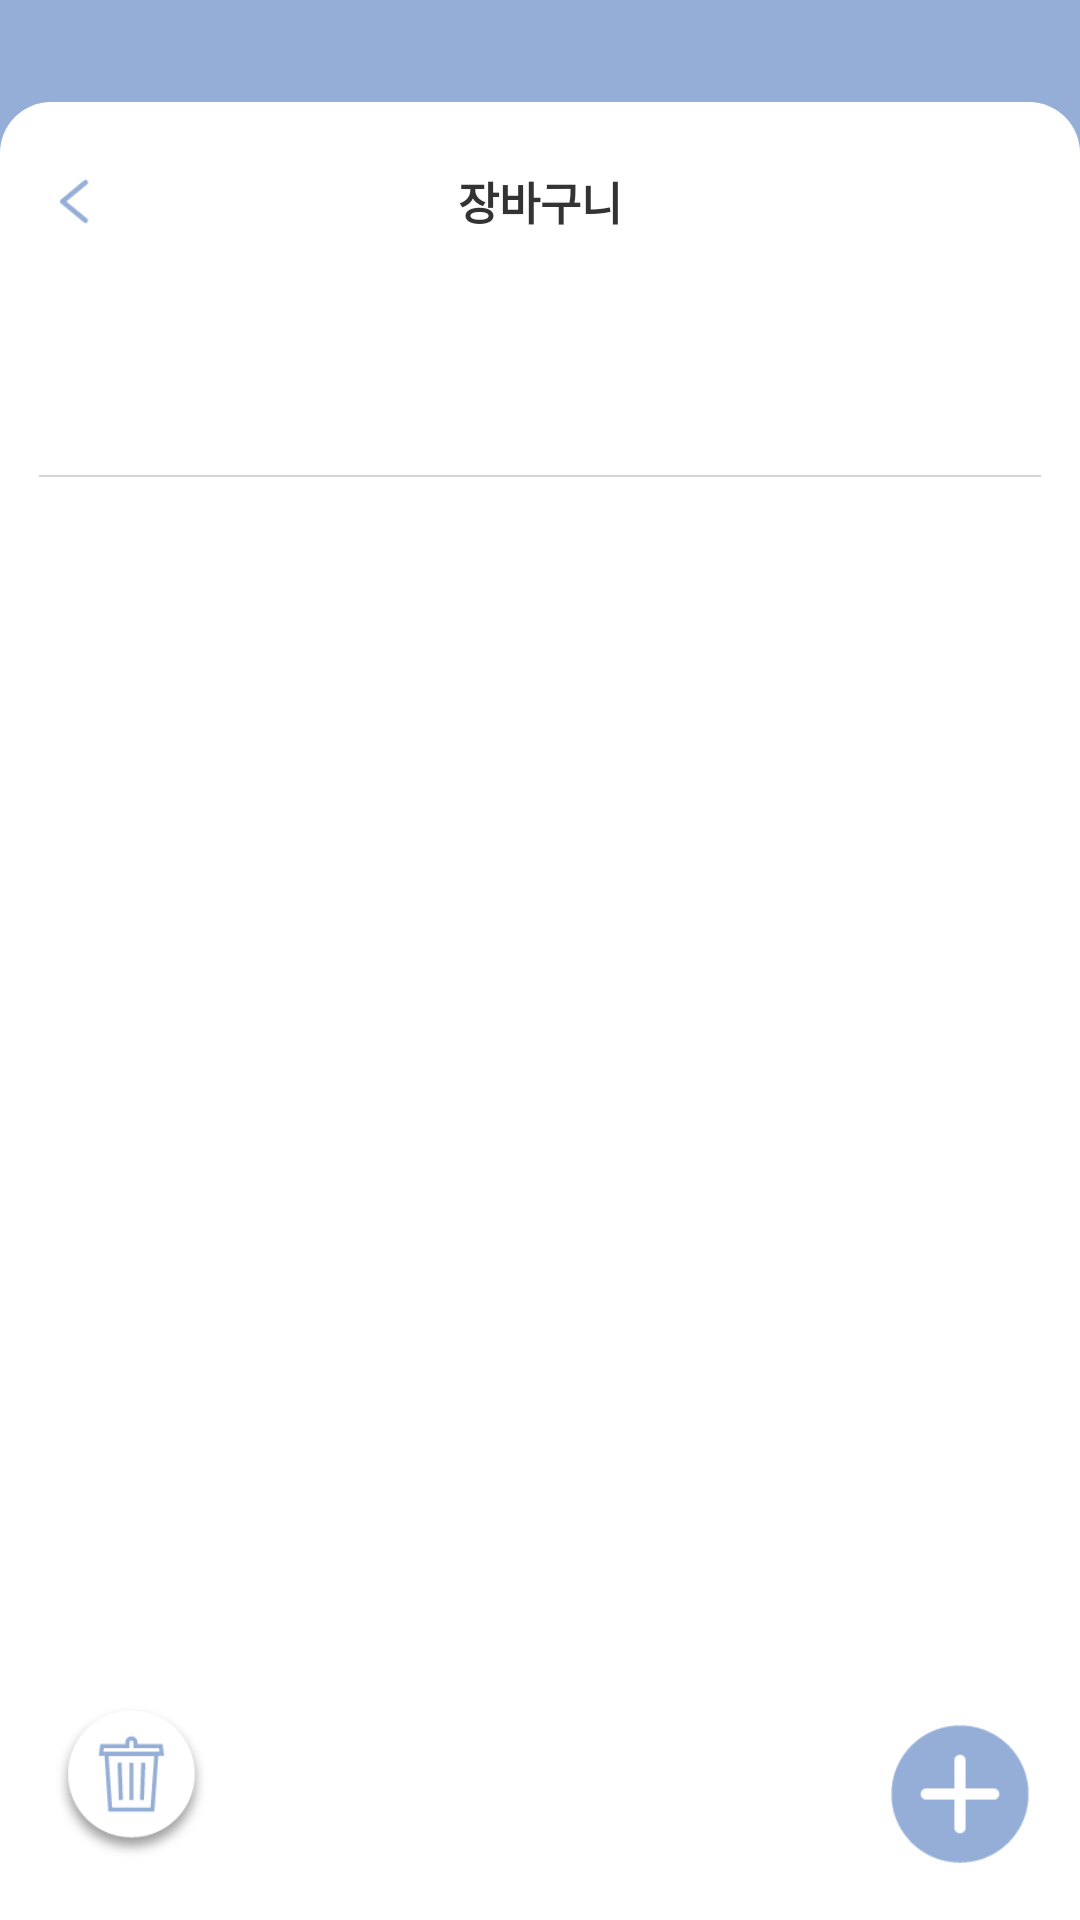

Named icons in this screenshot (1080px×1920px) and their centers, (x=x, y=y):
back: (x=74, y=202)
basket plus: (x=960, y=1794)
basket trash: (x=131, y=1793)
